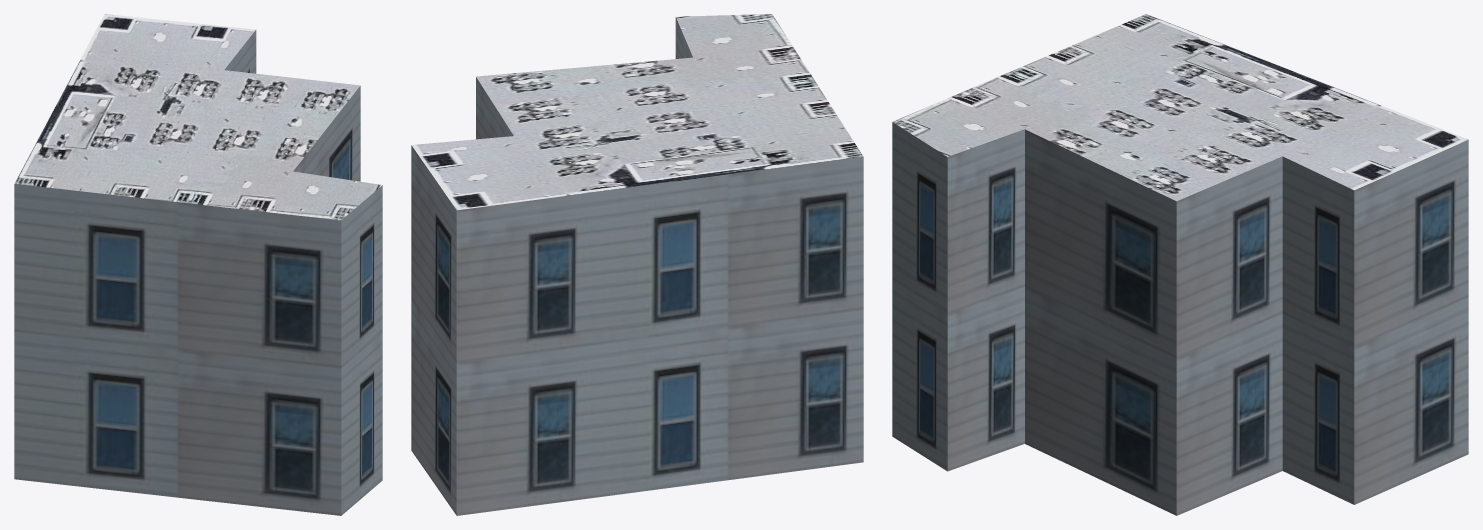
The model's file is ResTex__3292.fbx.
3 views of the same model, side by side, from view 1: azimuth 30°, elevation 25°; view 2: azimuth 150°, elevation 25°; view 3: azimuth 270°, elevation 25° (orthographic). The views are drawn at different scales.
Visible parts, largest first — view 1: CityEngineMaterial_18_m, CityEngineMaterial_8_m; view 2: CityEngineMaterial_18_m, CityEngineMaterial_8_m; view 3: CityEngineMaterial_18_m, CityEngineMaterial_8_m.
Boxes of the visible parts, box(x1,y1,x2,y2) form: CityEngineMaterial_18_m: box(14, 30, 382, 515); CityEngineMaterial_8_m: box(14, 14, 382, 220); CityEngineMaterial_18_m: box(411, 17, 863, 515); CityEngineMaterial_8_m: box(411, 14, 863, 210); CityEngineMaterial_18_m: box(892, 122, 1468, 515); CityEngineMaterial_8_m: box(892, 14, 1468, 201).
Size of the model in its own units: 7.66 by 6 by 9.96.
Materials: 2 (2 with a texture image).
